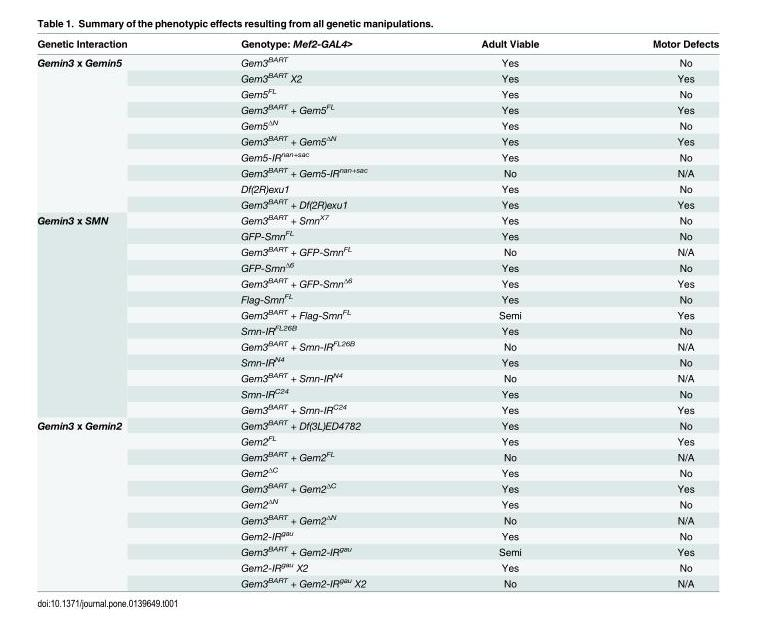table: (36, 36, 718, 589)
table column: (183, 36, 423, 589), (423, 36, 595, 589), (36, 36, 183, 589), (595, 36, 718, 589)
table column header: (36, 36, 718, 52)
table row: (36, 52, 718, 69), (36, 36, 718, 52), (36, 69, 718, 85), (36, 85, 718, 101), (36, 116, 718, 132), (36, 132, 718, 148), (36, 148, 718, 164), (36, 164, 718, 180), (36, 195, 718, 211), (36, 211, 718, 227), (36, 227, 718, 243), (36, 258, 718, 274), (36, 274, 718, 290), (36, 290, 718, 306), (36, 321, 718, 337), (36, 337, 718, 353), (36, 353, 718, 369), (36, 369, 718, 385), (36, 400, 718, 416), (36, 416, 718, 432), (36, 432, 718, 448), (36, 463, 718, 479), (36, 479, 718, 495), (36, 495, 718, 511), (36, 511, 718, 527), (36, 542, 718, 558), (36, 558, 718, 574), (36, 101, 718, 116), (36, 180, 718, 195), (36, 243, 718, 258), (36, 306, 718, 321), (36, 385, 718, 400), (36, 448, 718, 463), (36, 527, 718, 542), (36, 574, 718, 589)
table spanning cell: (36, 211, 183, 416), (36, 416, 183, 589), (36, 52, 183, 211)
